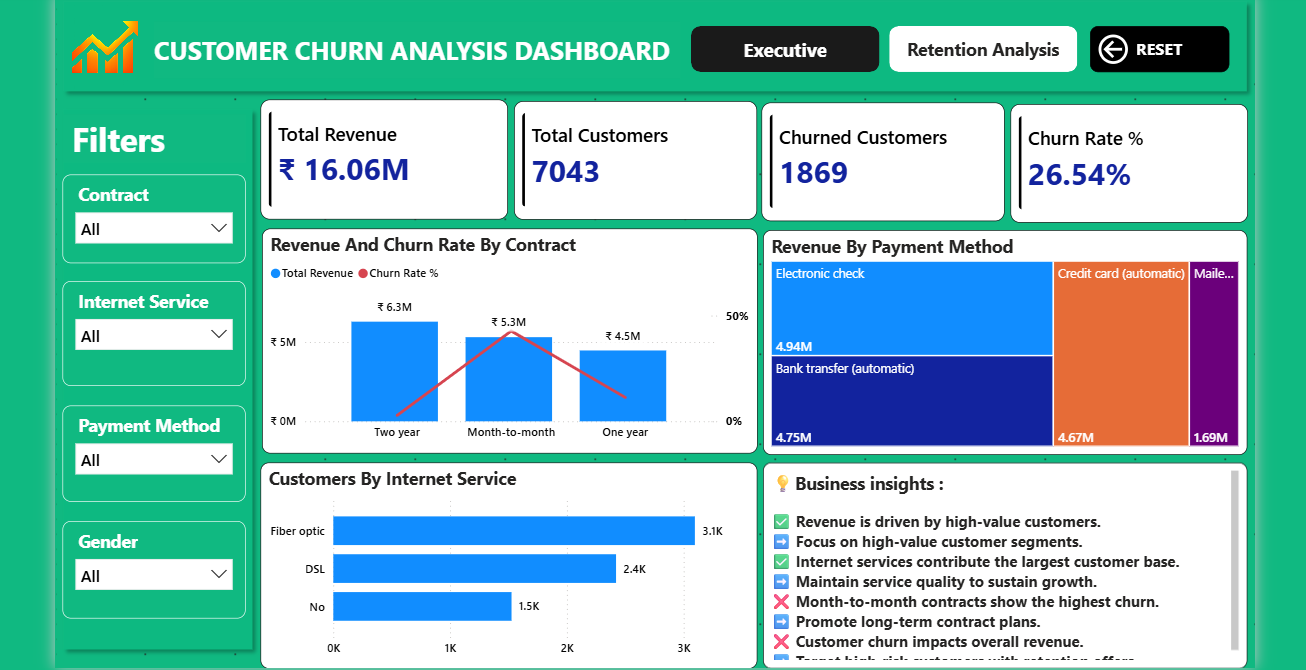

What the dashboard file says about the page in this screenshot:
{"tool":"powerbi","page":{"name":"Executive","canvas":[1280,720],"ordinal":0},"visuals":[{"type":"cardVisual","fields":{"Data":["Customer_churn.Total Revenue"]},"box":[219.2,113.6,264,128],"z":0},{"type":"shape","box":[0,115.2,219.2,593.6],"z":1000},{"type":"cardVisual","fields":{"Data":["Customer_churn.Total Customers"]},"box":[489,115.2,259.2,126.4],"z":2000},{"type":"cardVisual","fields":{"Data":["Customer_churn.Churned  Customers"]},"box":[753.9,116.8,259.2,126.4],"z":3000},{"type":"cardVisual","fields":{"Data":["Customer_churn.Churn Rate"]},"box":[1018.9,118.9,253.3,126.7],"z":4000},{"type":"shape","box":[0,0,1280,113.6],"z":5000},{"type":"slicer","fields":{"Values":["Customer_churn.Contract"]},"box":[8,193.6,195.2,94.4],"z":6000},{"type":"slicer","fields":{"Values":["Customer_churn.Internet  Service"]},"box":[8,307.2,195.2,112],"z":7000},{"type":"slicer","fields":{"Values":["Customer_churn.Payment Method"]},"box":[8,440,195.2,102.4],"z":8000},{"type":"slicer","fields":{"Values":["Customer_churn.gender"]},"box":[8,563.2,195.2,104],"z":9000},{"type":"shape","box":[8,129.6,195.2,51.2],"z":10000},{"type":"treemap","title":"Revenue By Payment Method","fields":{"Values":["Sum(Customer_churn.Total Charges)"],"Group":["Customer_churn.Payment Method"]},"box":[755.6,252.2,516.7,240],"z":11000},{"type":"lineClusteredColumnComboChart","title":"Revenue And Churn Rate By Contract","fields":{"Category":["Customer_churn.Contract"],"Y":["Customer_churn.Total Revenue"],"Y2":["Customer_churn.Churn Rate %"]},"box":[220,251.7,528.3,240],"z":12000},{"type":"clusteredBarChart","title":"Customers By Internet  Service","fields":{"Y":["CountNonNull(Customer_churn.customer ID)"],"Category":["Customer_churn.Internet  Service"]},"box":[219,500,530,220],"z":13000},{"type":"pageNavigator","box":[678.4,35.2,412.8,49.6],"z":14000},{"type":"actionButton","box":[1104,35.2,148.8,49.6],"z":15000},{"type":"textbox","box":[755.6,500,516.7,220],"z":16000},{"type":"shape","box":[105.6,30.4,561.6,60.8],"z":17000},{"type":"image","box":[0,12.8,89.6,89.6],"z":18000}]}

Visuals, with their boxes on the page's 1280x720 design canvas (x1, y1, x2, y2). These are canvas units, not pixel positions in the 1306x670 screenshot, which may show the page scaled, cropped or inside an application window:
cardVisual - Customer_churn.Total Revenue: 219/114/483/242
shape: 0/115/219/709
cardVisual - Customer_churn.Total Customers: 489/115/748/242
cardVisual - Customer_churn.Churned  Customers: 754/117/1013/243
cardVisual - Customer_churn.Churn Rate: 1019/119/1272/246
shape: 0/0/1280/114
slicer - Customer_churn.Contract: 8/194/203/288
slicer - Customer_churn.Internet  Service: 8/307/203/419
slicer - Customer_churn.Payment Method: 8/440/203/542
slicer - Customer_churn.gender: 8/563/203/667
shape: 8/130/203/181
"Revenue By Payment Method" treemap: 756/252/1272/492
"Revenue And Churn Rate By Contract" lineClusteredColumnComboChart: 220/252/748/492
"Customers By Internet  Service" clusteredBarChart: 219/500/749/720
pageNavigator: 678/35/1091/85
actionButton: 1104/35/1253/85
textbox: 756/500/1272/720
shape: 106/30/667/91
image: 0/13/90/102
